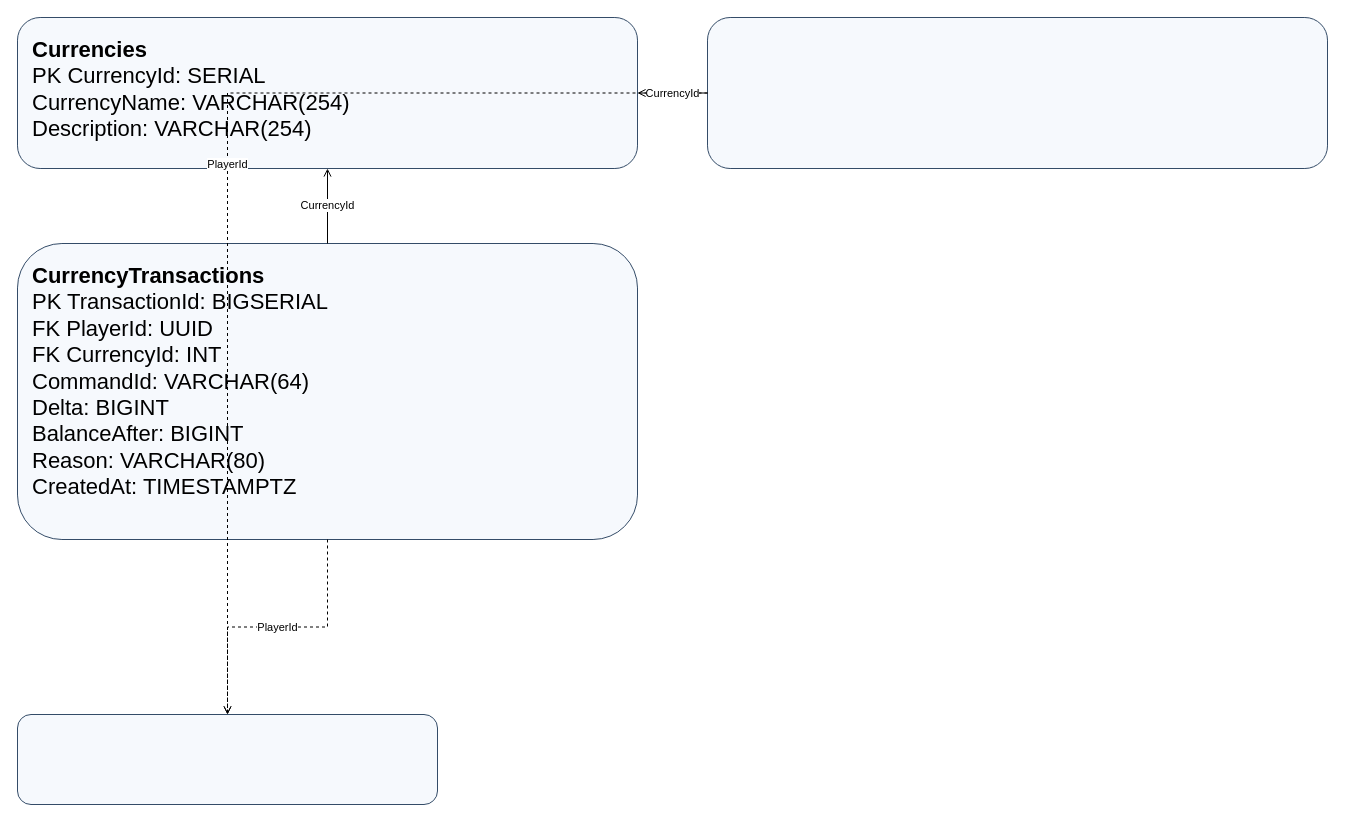
Image size: 1345x831. Some labels were removed from this diagram. Here are the shapes that lost their labels. From the top down, the box of each, then its label:
(706, 16, 1328, 168): PlayerCurrencies PK FK PlayerId: UUID PK FK CurrencyId: INT Amount: INT
(16, 714, 438, 804): PlayerProfiles Referenced table — see other ERD
